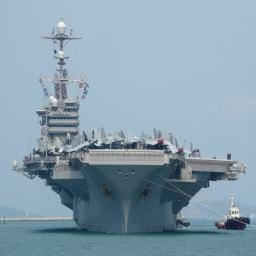Portanaves: (11, 17, 247, 237)
